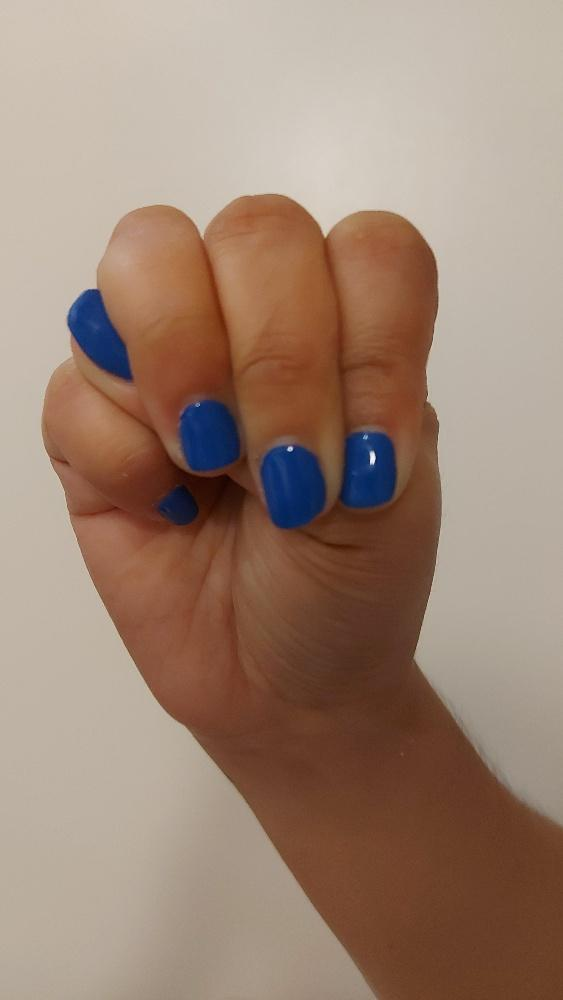m: (38, 190, 443, 733)
